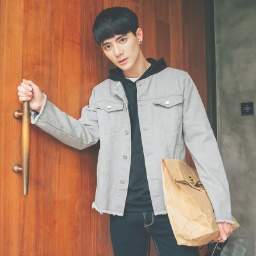face: (92, 6, 146, 71)
